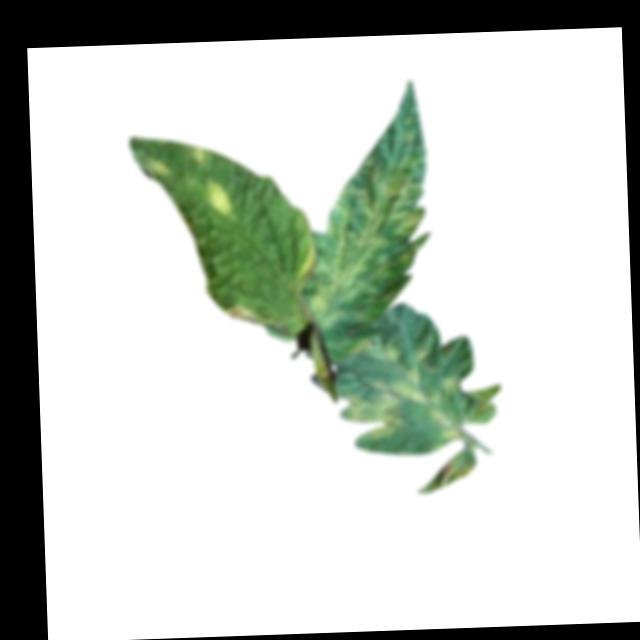Leaf_Mold: (298, 78, 437, 335), (338, 330, 459, 442), (223, 304, 278, 326), (206, 182, 238, 216), (146, 150, 173, 179)
